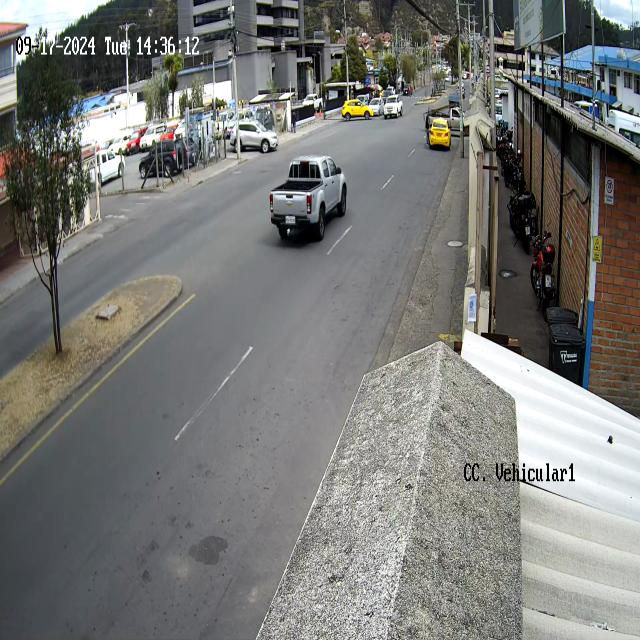CMT: (269, 156, 349, 242), (383, 93, 404, 119)
SUV: (229, 118, 278, 154), (341, 99, 375, 122)
